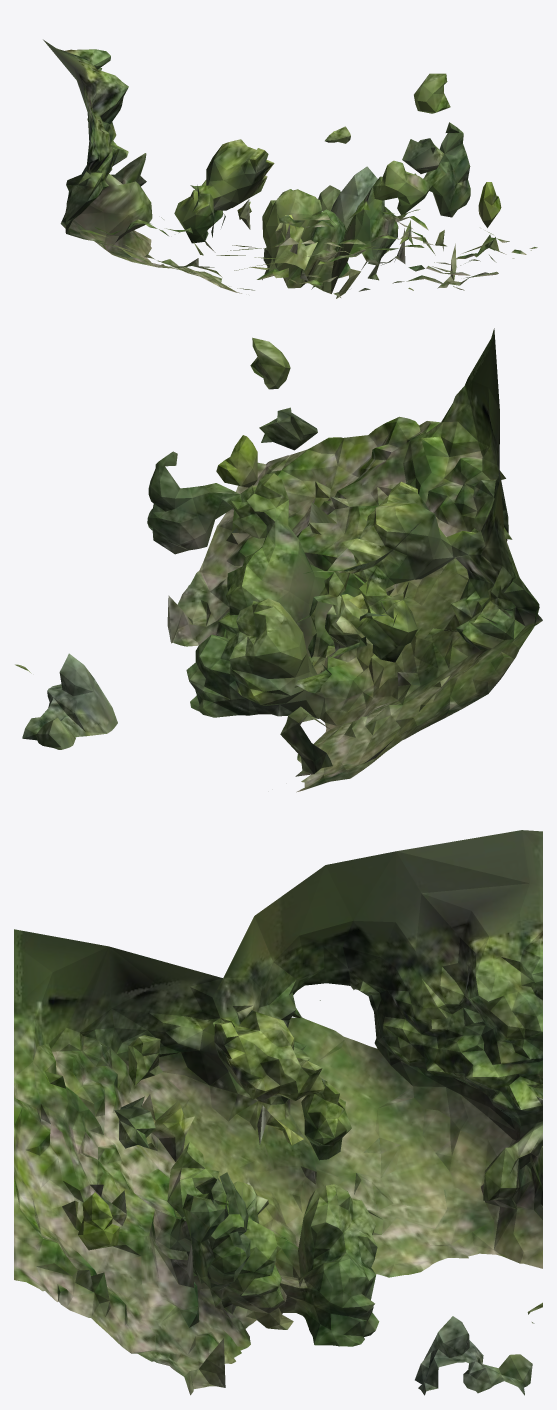
3 renders of one model, top to bottom at view 1: azimuth 30°, elevation 25°; view 2: azimuth 150°, elevation 25°; view 3: azimuth 270°, elevation 25°, orthographic. The views are drawn at different scales.
Bounding box in the file's own units: 52.22 × 38.08 × 52.22.
Materials: 5 (5 with a texture image).
